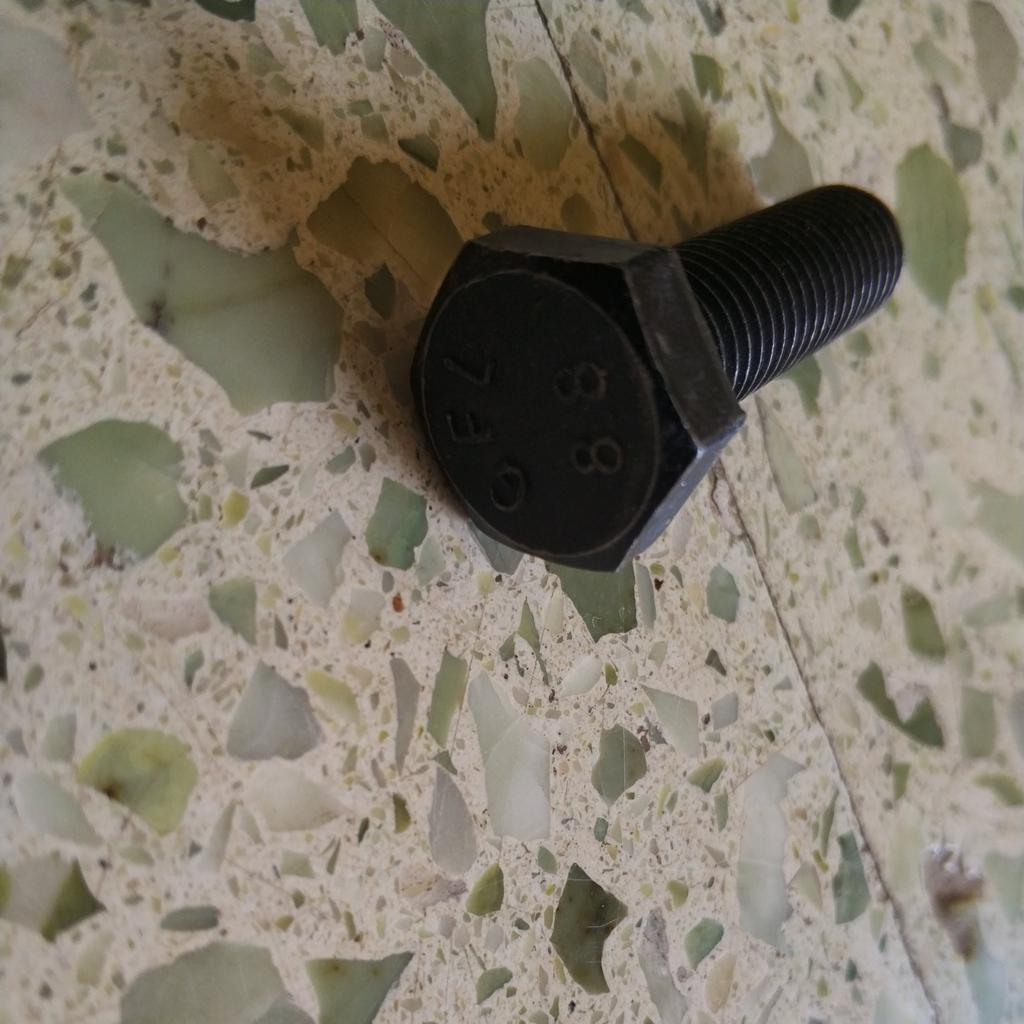screwtype2black: (402, 180, 910, 582)
